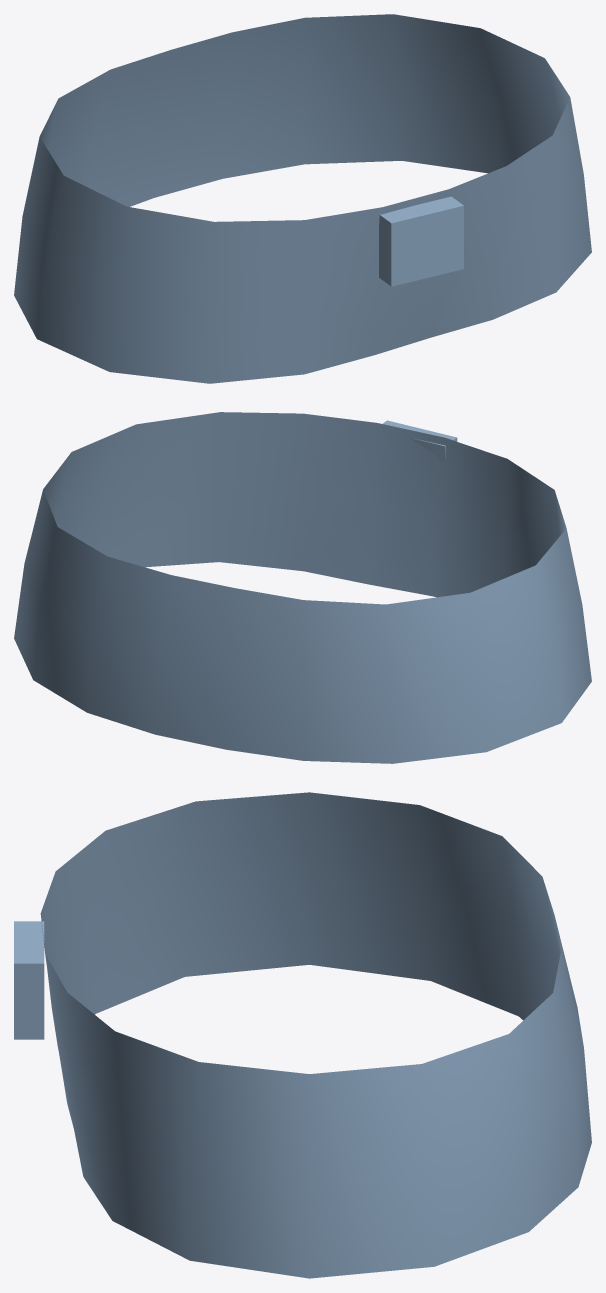
Rendered from platinum_armor_belt.glb.
3 renders of one model, top to bottom at view 1: azimuth 30°, elevation 25°; view 2: azimuth 150°, elevation 25°; view 3: azimuth 270°, elevation 25°, orthographic. The views are drawn at different scales.
Visible parts, largest first — view 1: platinum_armor_belt; view 2: platinum_armor_belt; view 3: platinum_armor_belt.
Part boxes in pixels (x1,y1,x2,y2): platinum_armor_belt: (14,14,591,383); platinum_armor_belt: (14,412,591,763); platinum_armor_belt: (14,792,591,1278).
Size of the model in its own units: 0.4427 by 0.1238 by 0.3446.
